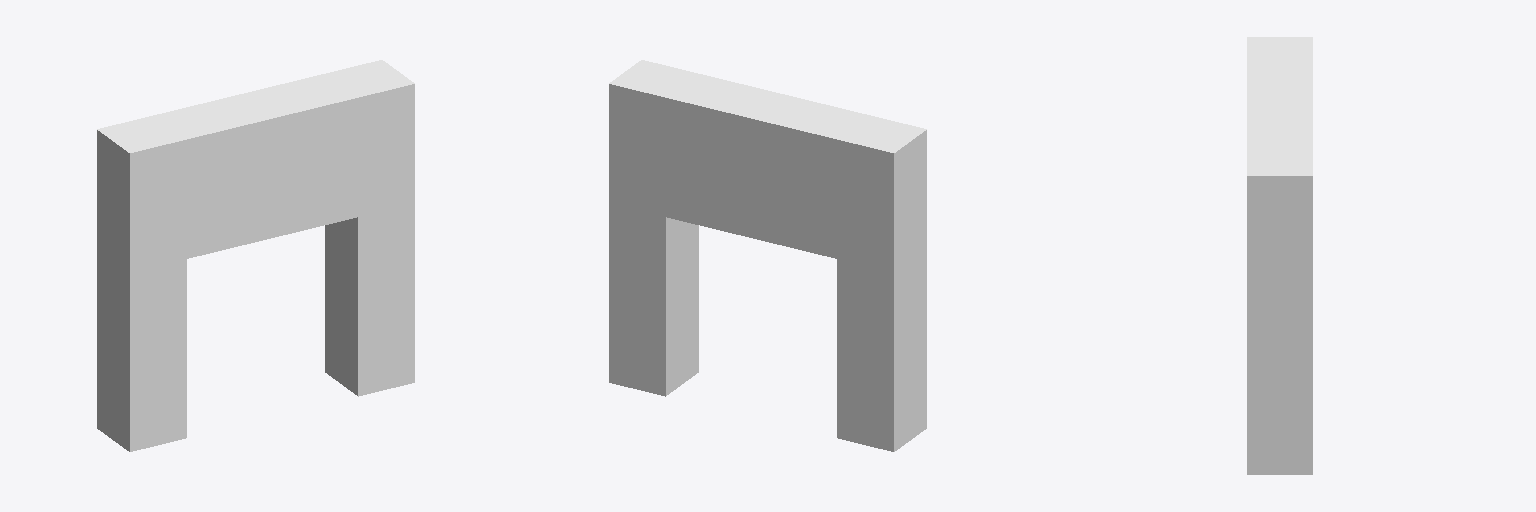
Rendered from Finishline.obj.
The picture shows the model from 3 angles: view 1: azimuth 30°, elevation 25°; view 2: azimuth 150°, elevation 25°; view 3: azimuth 270°, elevation 25°; orthographic projection.
Parts seen in each view (by area): view 1: object 1; view 2: object 1; view 3: object 1.
Boxes of the visible parts, x1=… form: object 1: x1=97, y1=60, x2=414, y2=451; object 1: x1=609, y1=60, x2=926, y2=451; object 1: x1=1247, y1=37, x2=1312, y2=474.
Size of the model in its own units: 0.5 by 0.5 by 0.1.